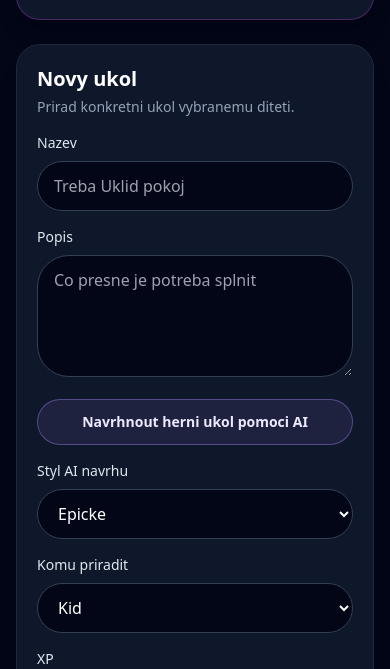
ukaze chybu kdyz chybi popis pro AI navrh
The width and height of the screenshot is (390, 669).
(page scrolled)
Expected: the heading "Novy ukol" is shown, [37,65,137,92]
What coordinates should you click on to do the following:
click the button "Navrhnout herni ukol pomoci AI"
I would click on:
 (195, 422)
Its box is [37,399,353,445].
(page scrolled)
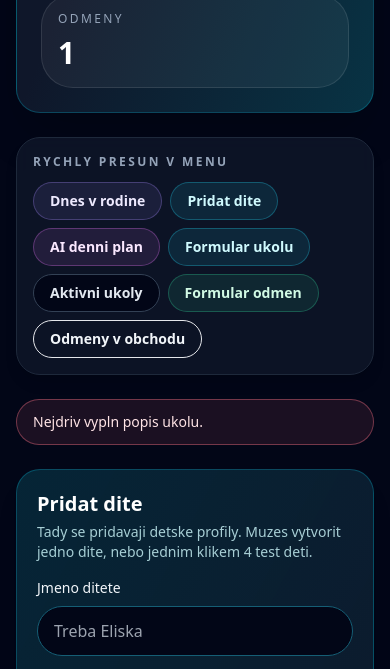
Now the text "Nejdriv vypln popis ukolu." is shown, box [16,399,374,445]
